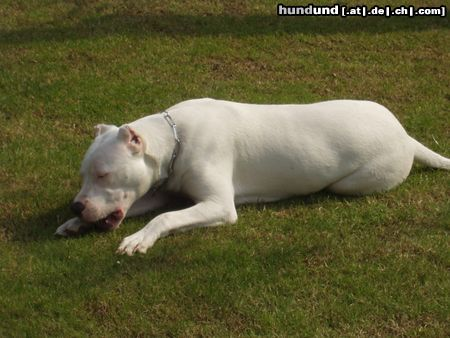dogo_argentino: (53, 97, 450, 256)
